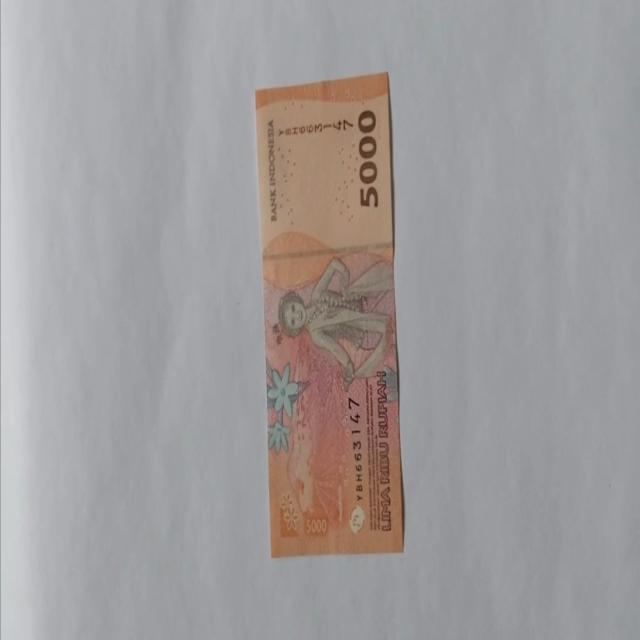lima ribu rupiah: (253, 71, 405, 558)
